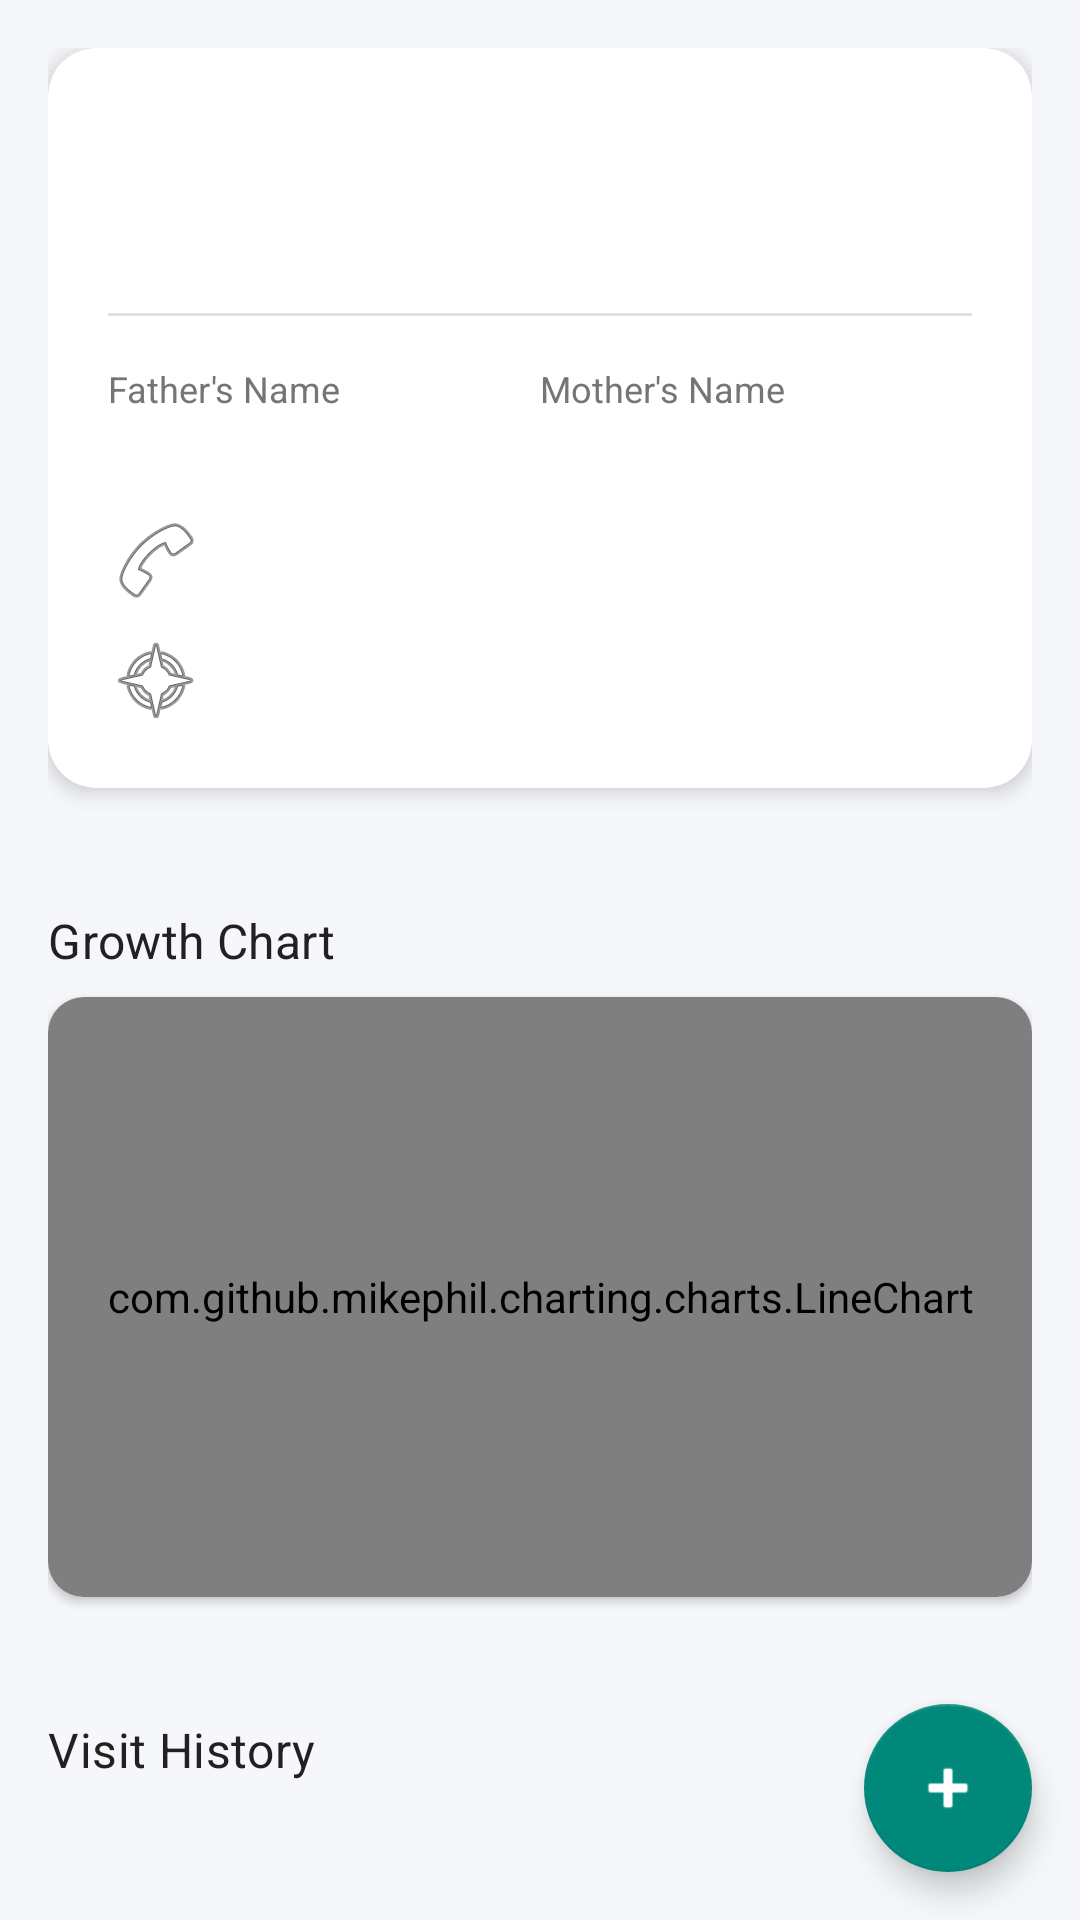

Icons on this 1080x1920 Android screen, each with its box as (x1, y1, x2, y2):
Add New: (864, 1704, 1032, 1872)
